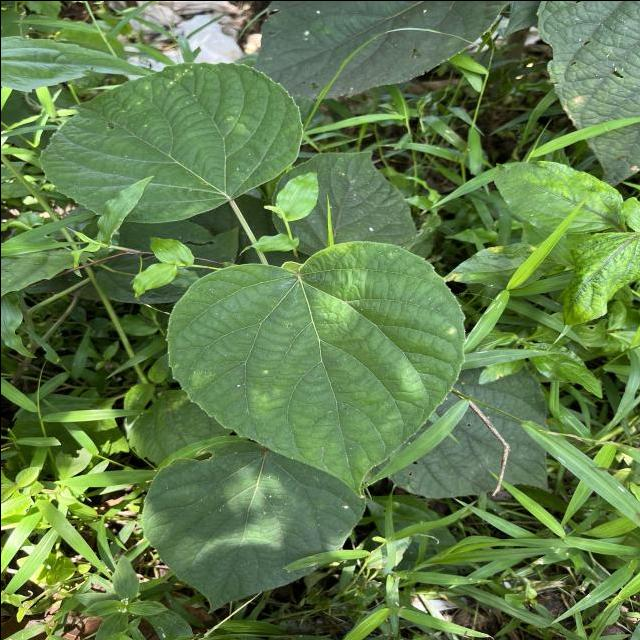Clerodendrum infortunatum: (163, 238, 469, 498), (36, 60, 300, 221), (140, 438, 366, 616)
